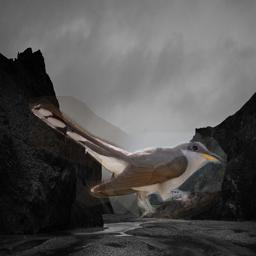Cuckoo: (29, 96, 227, 223)
